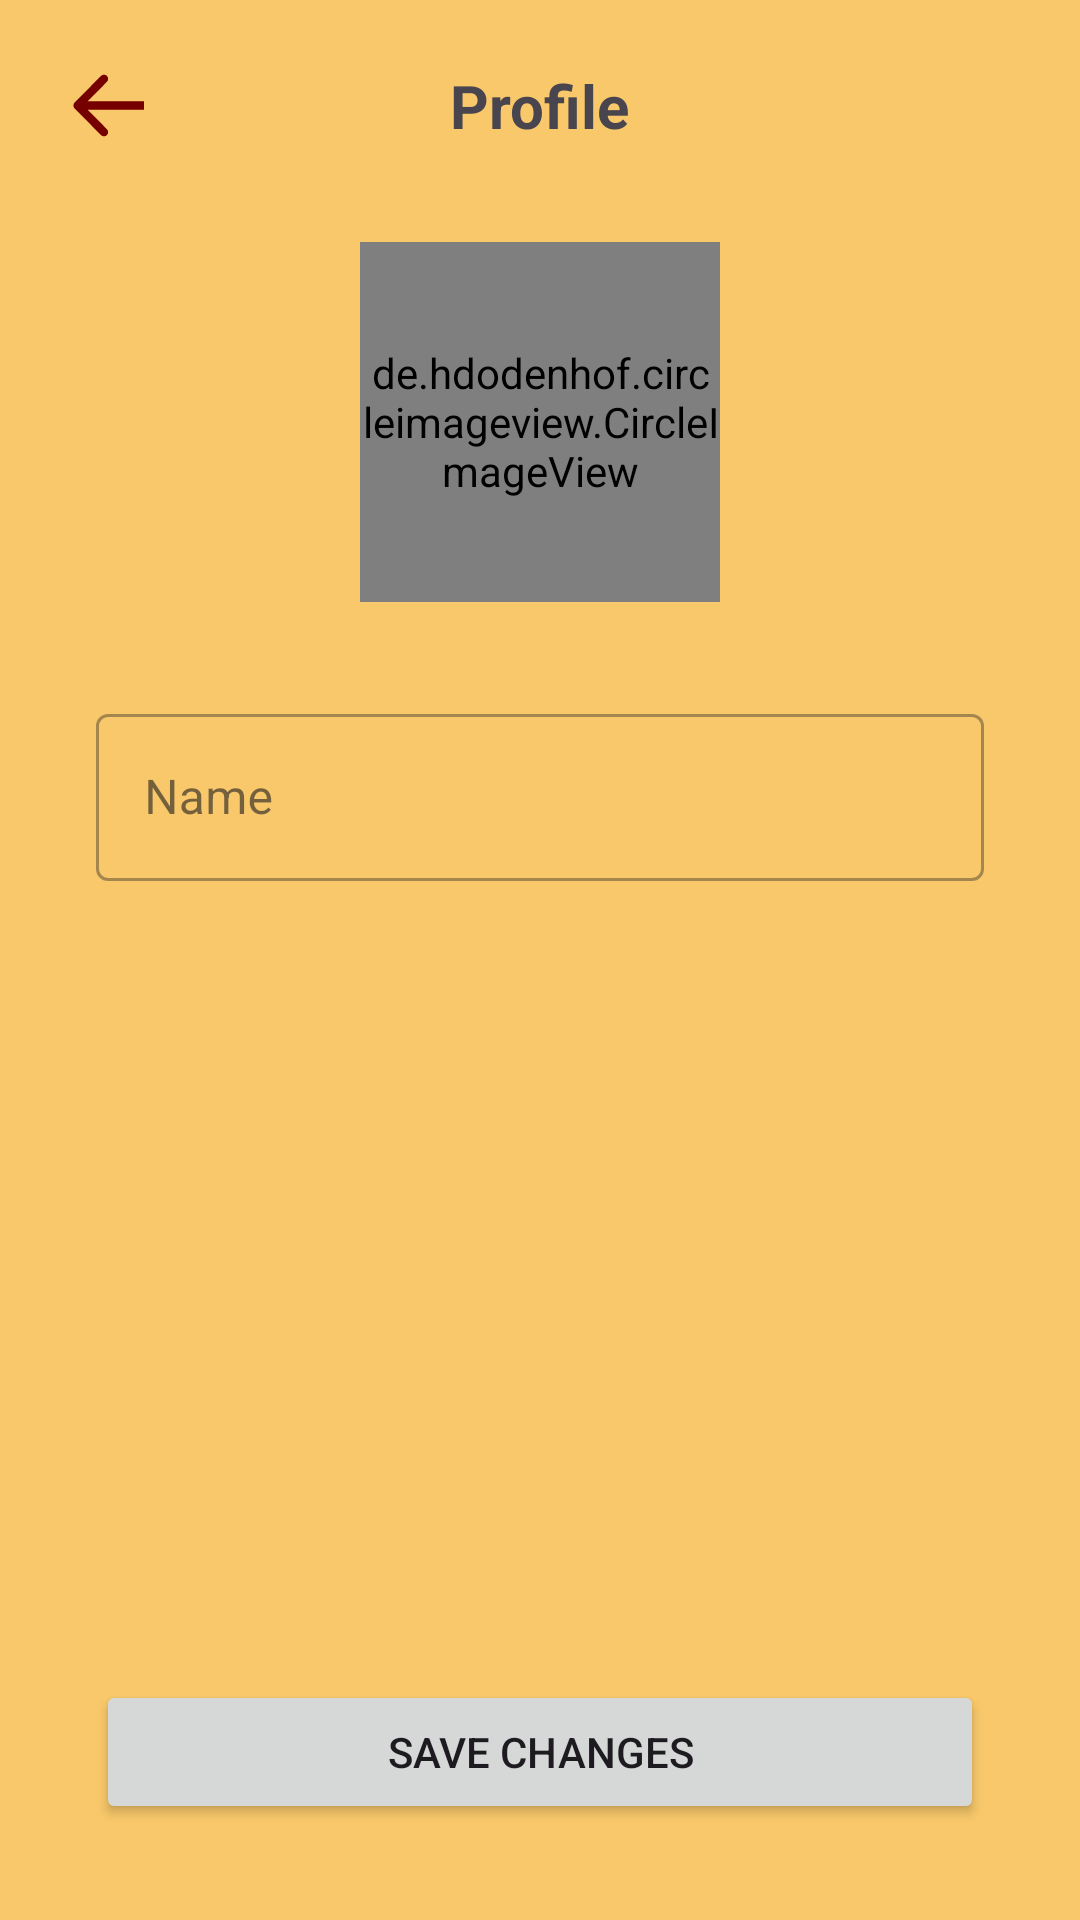

Icons on this 1080×1920 Android screen, each with the point to tap as [x,y]:
Back: [108,105]
